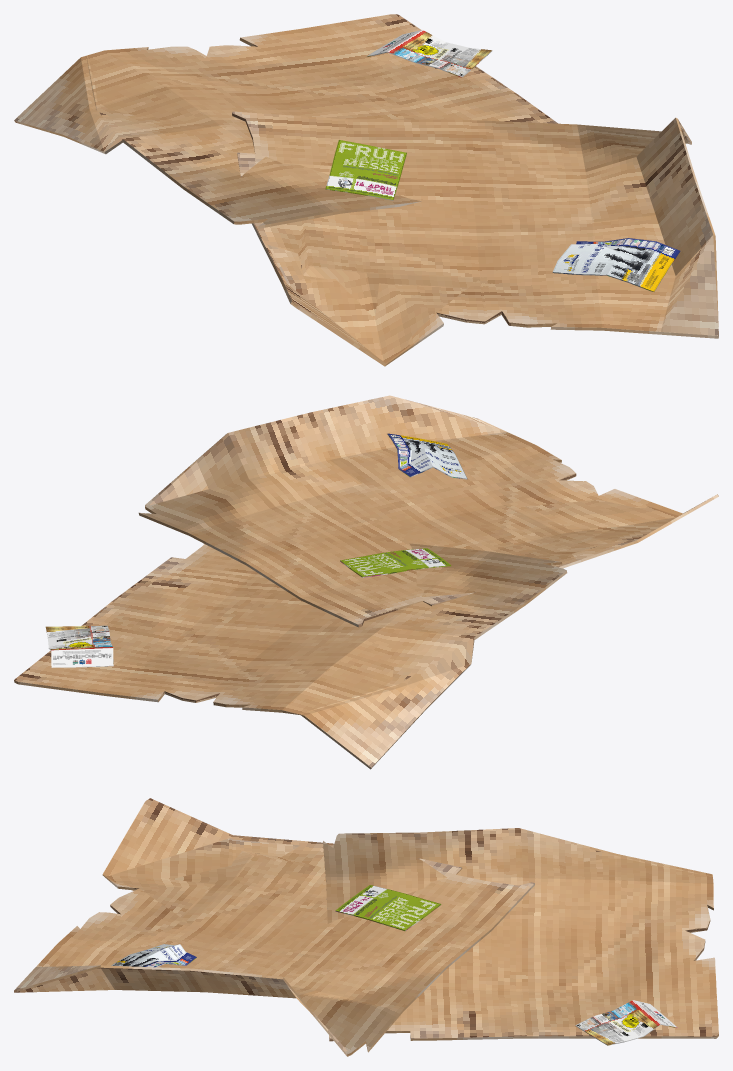
The model's file is cardboard_bed2.glb.
3 renders of one model, top to bottom at view 1: azimuth 30°, elevation 25°; view 2: azimuth 150°, elevation 25°; view 3: azimuth 270°, elevation 25°, orthographic. The views are drawn at different scales.
Visible parts, largest first — view 1: CardbardBed; view 2: CardbardBed; view 3: CardbardBed.
Part boxes in pixels (x1=…): CardbardBed: x1=14, y1=14, x2=718, y2=366; CardbardBed: x1=14, y1=395, x2=718, y2=769; CardbardBed: x1=14, y1=798, x2=718, y2=1056.
Size of the model in its own units: 0.9734 by 0.1602 by 1.36.
Materials: 4 (4 with a texture image).
